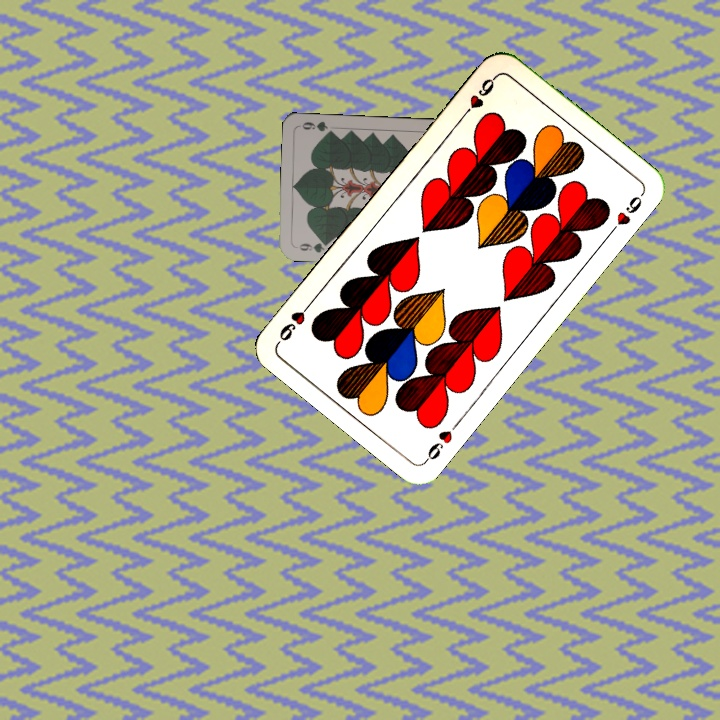G9: (292, 238, 333, 255)
H9: (457, 71, 500, 121), (421, 426, 456, 465)
